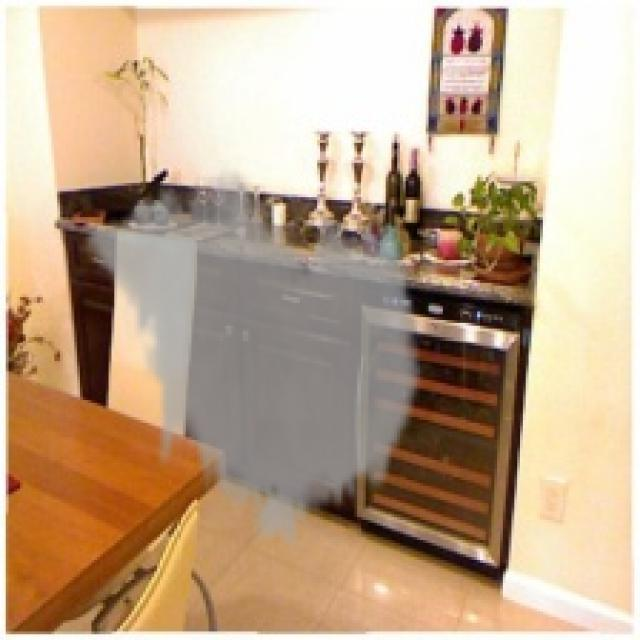Smoke: (83, 157, 426, 554)
